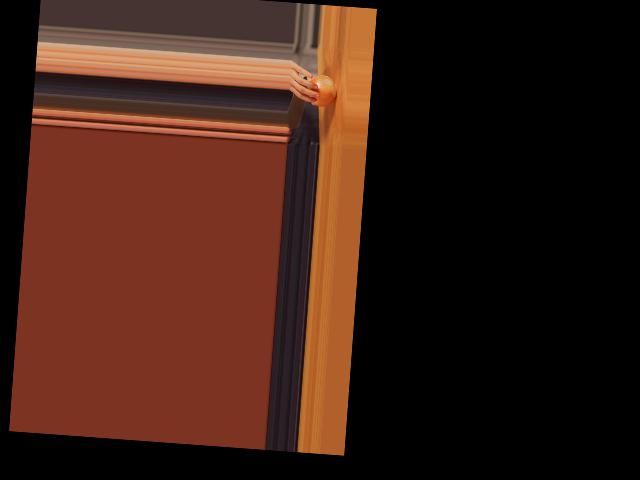onion: (305, 74, 338, 107)
